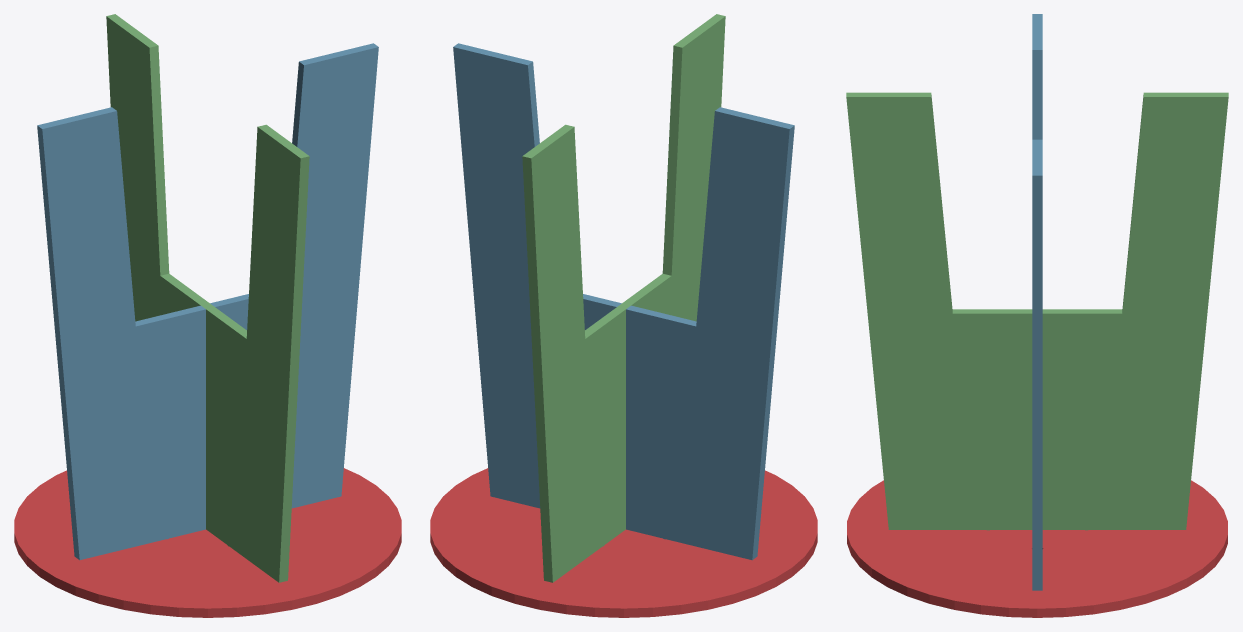
3 renders of one model, left to right at view 1: azimuth 30°, elevation 25°; view 2: azimuth 150°, elevation 25°; view 3: azimuth 270°, elevation 25°, orthographic.
Visible parts, largest first — view 1: g1, g2, g0; view 2: g1, g2, g0; view 3: g2, g0, g1.
Part boxes in pixels (<box>): g1: <box>37,43,378,560</box>; g2: <box>106,14,309,582</box>; g0: <box>14,468,401,617</box>; g1: <box>453,43,794,560</box>; g2: <box>522,14,725,582</box>; g0: <box>430,468,817,617</box>; g2: <box>846,92,1228,530</box>; g0: <box>847,480,1227,617</box>; g1: <box>1032,14,1042,590</box>.
Size of the model in its own units: 1.49 by 1.9 by 1.49.
